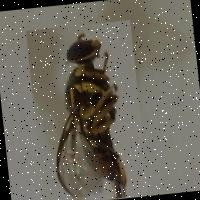Oriental-fruit-fly: (24, 18, 147, 200)
